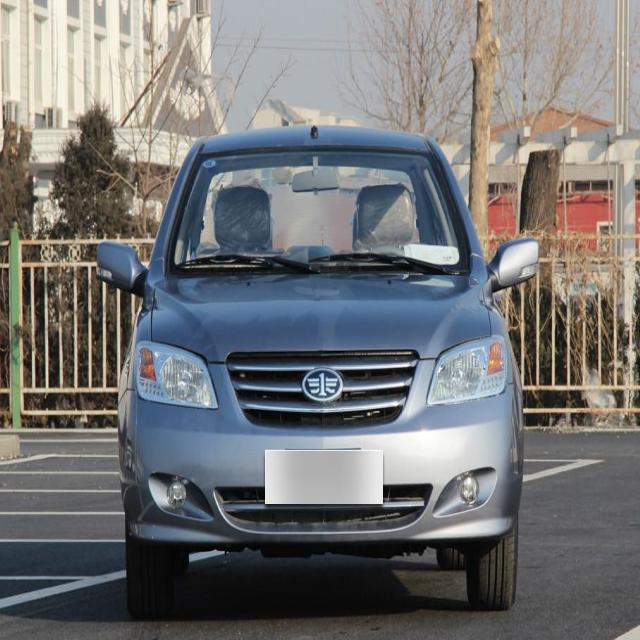front_bumper: (114, 381, 528, 548)
front_glass: (165, 145, 471, 282)
front_left_side_light: (422, 331, 510, 413)
front_left_side_mirror: (490, 233, 542, 294)
front_right_side_light: (131, 334, 219, 413)
front_right_side_mirror: (94, 236, 149, 298)
